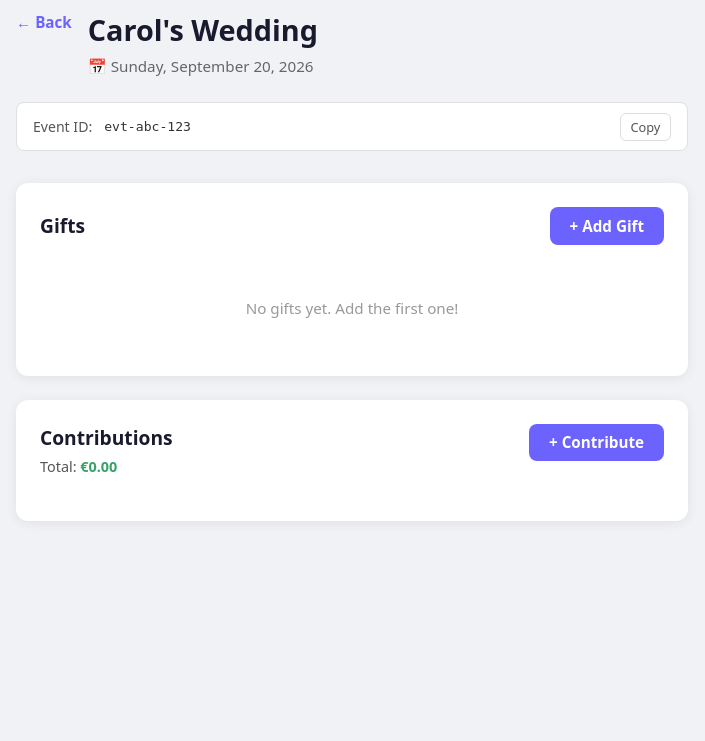
Test case: Event Page — add gift form › shows the add gift form when clicking "+ Add Gift"
The image size is (705, 741).
What coordinates should you click on to do the following:
click the button with test id "EventPage__addGiftBtn"
I would click on:
 (607, 226)
Its box is [550,207,664,245].
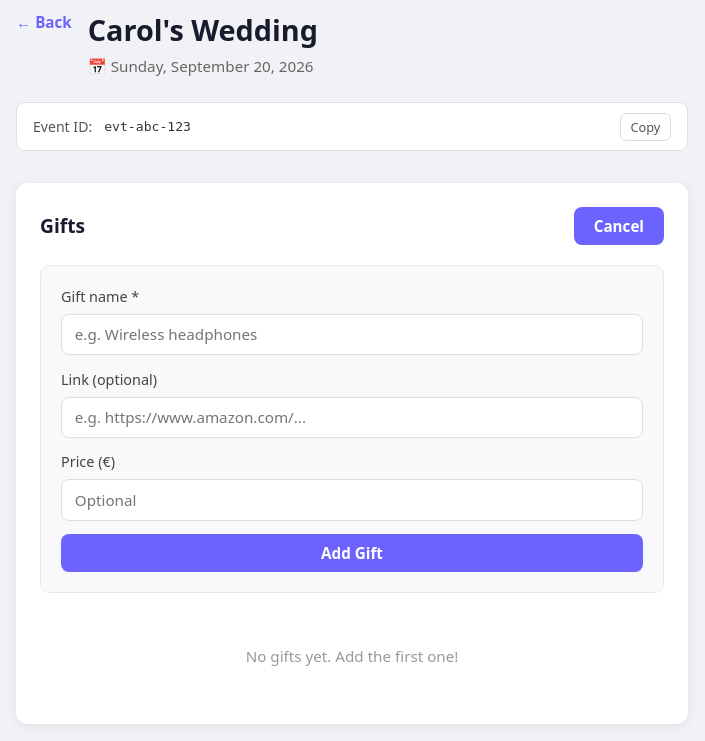
Expected: the form with test id "EventPage__addGiftForm" is shown, [40,265,664,593]
Expected: the field with test id "EventPage__giftNameInput" is shown, [61,314,643,355]
